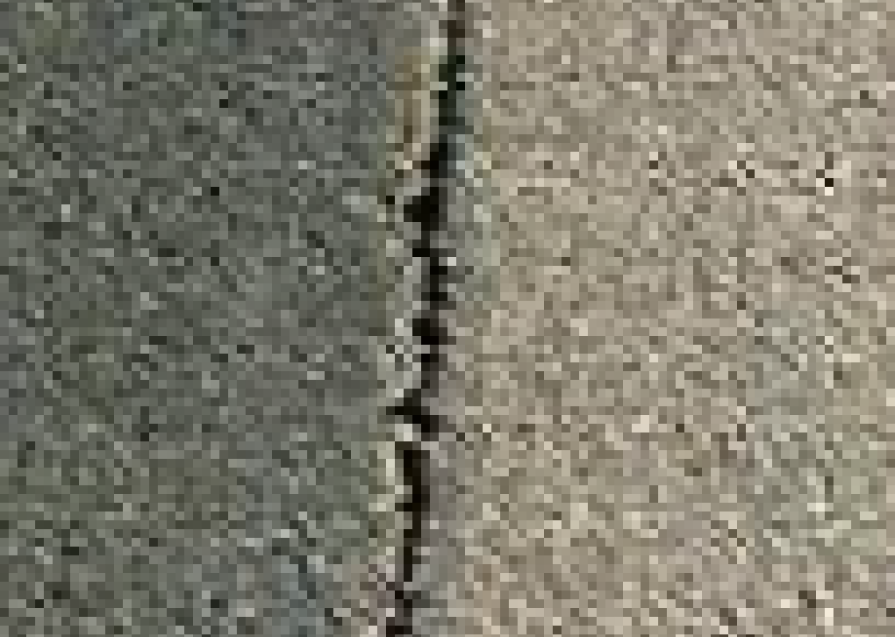Retak Memanjang: (366, 1, 486, 637)
